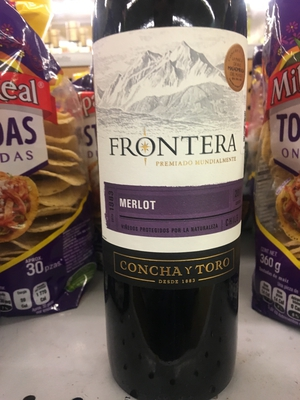frontera merlot: (88, 8, 255, 391)
